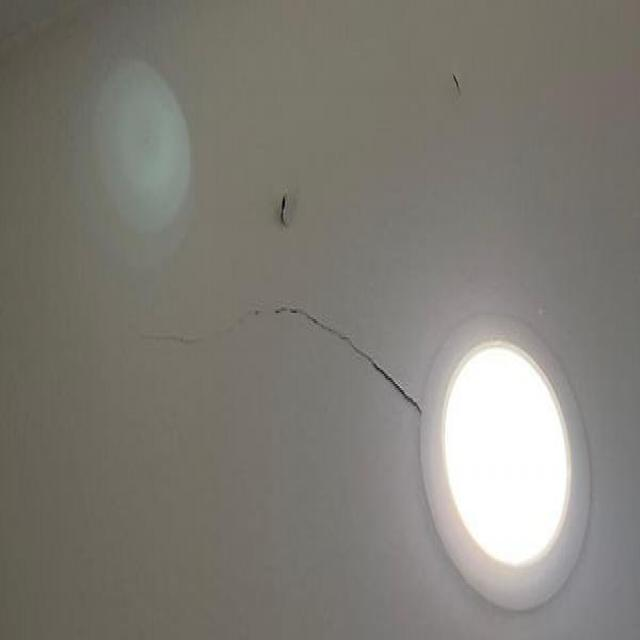Crack: (148, 303, 426, 412)
